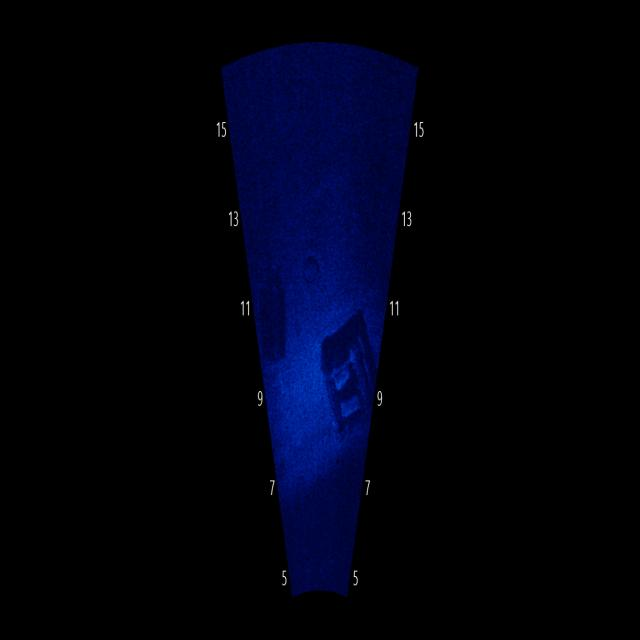circle: (298, 236, 334, 302)
square: (320, 309, 387, 446), (256, 271, 292, 380)
